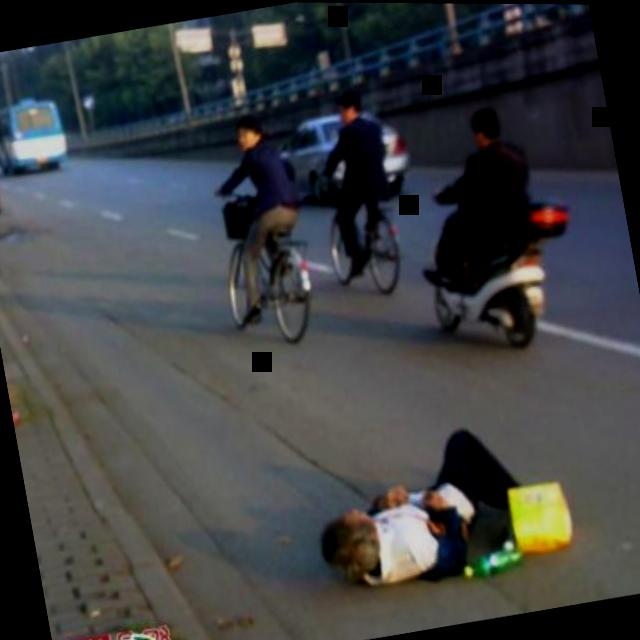Fall-Detected: (298, 397, 560, 609)
